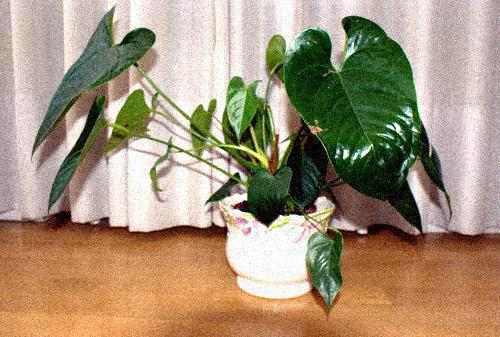Matera: (59, 8, 438, 316)
